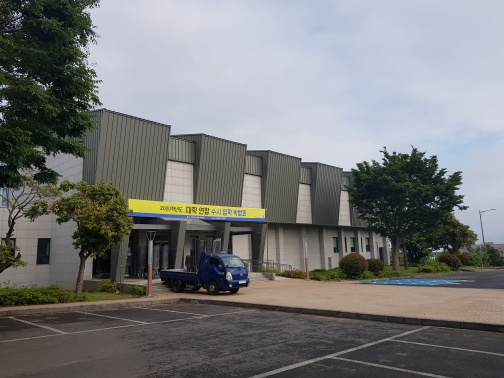Gym: (45, 96, 433, 292), (77, 105, 346, 229)
